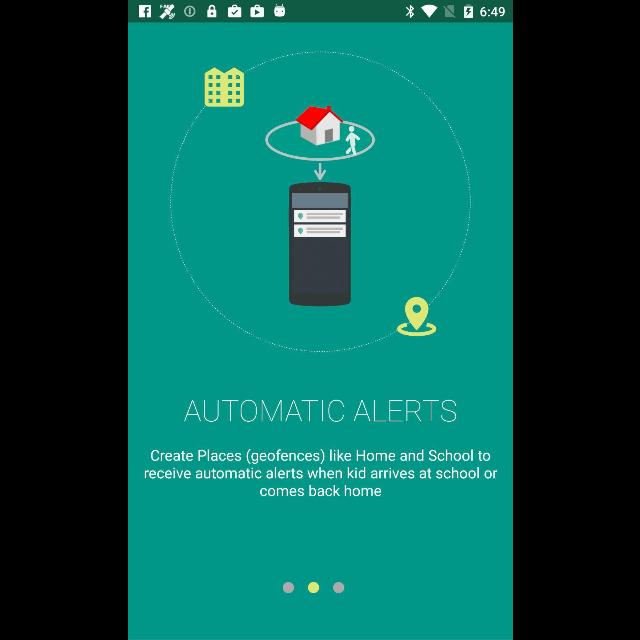image: (168, 51, 470, 353)
pageindicator: (282, 582, 344, 594)
text: (144, 449, 496, 497), (183, 400, 455, 422)
uppertaskbar: (128, 1, 512, 23)
